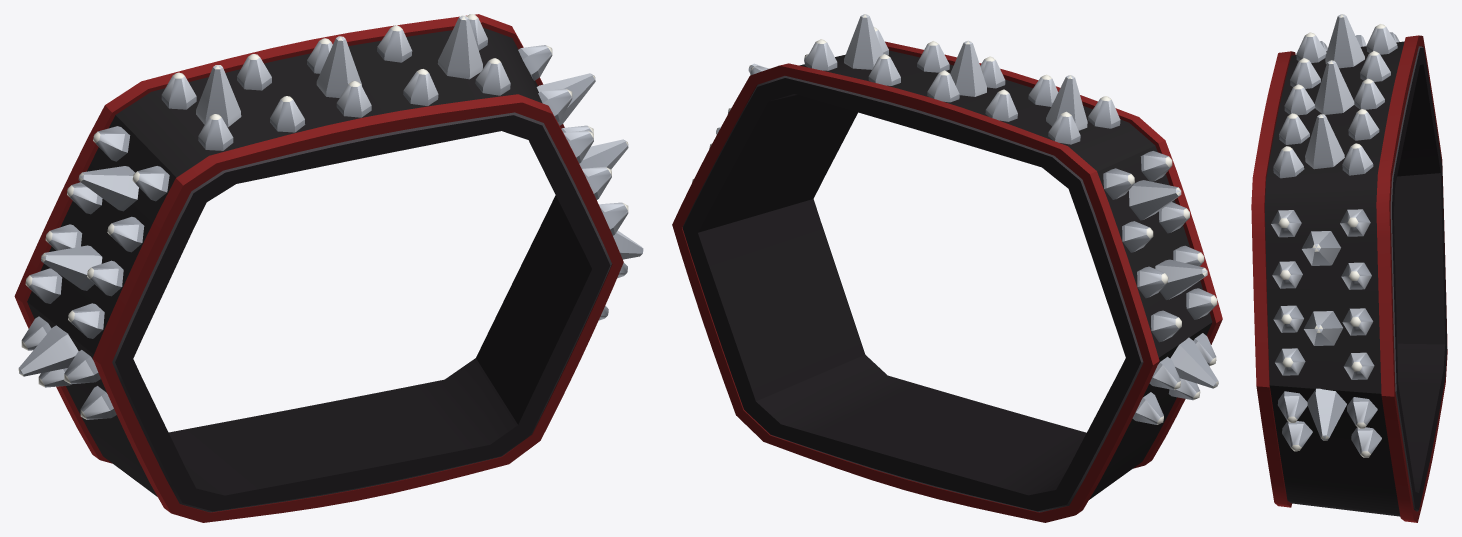
The model's file is Wrist_Studs.fbx.
3 views of the same model, side by side, from view 1: azimuth 30°, elevation 25°; view 2: azimuth 150°, elevation 25°; view 3: azimuth 270°, elevation 25° (orthographic). The views are drawn at different scales.
Parts seen in each view (by area): view 1: Wrist_Studs; view 2: Wrist_Studs; view 3: Wrist_Studs.
Boxes of the visible parts, x1,y1,x2,y2 form: Wrist_Studs: (14,14,643,522); Wrist_Studs: (672,14,1222,522); Wrist_Studs: (1251,14,1447,522).
Size of the model in its own units: 0.545 by 0.393 by 0.1771.
Materials: 1 (1 with a texture image).
